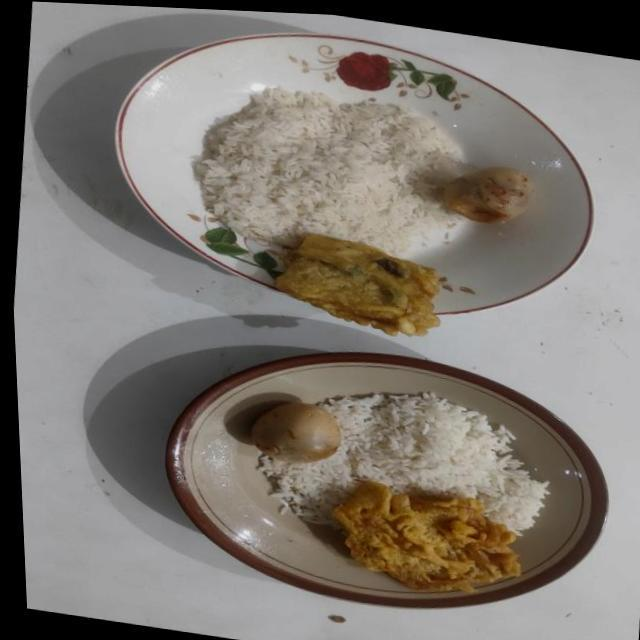nasi_putih: (192, 87, 458, 256), (260, 391, 548, 534)
